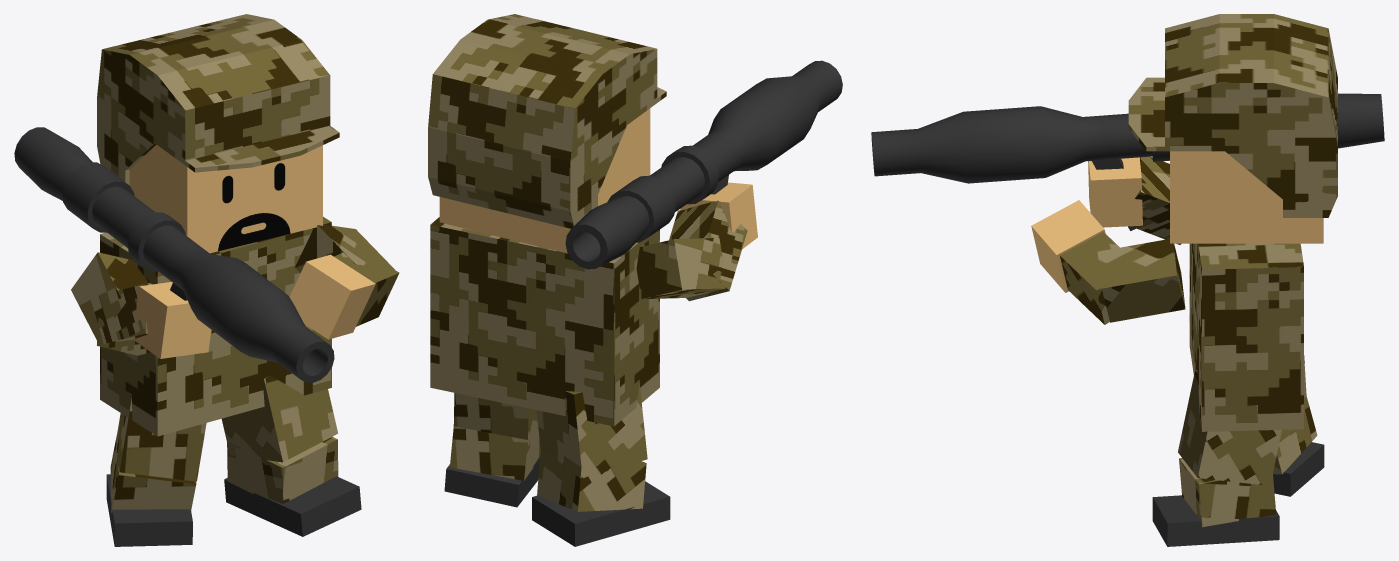
File: Soldier_Po.FBX
The picture shows the model from 3 angles, left to right: view 1: azimuth 30°, elevation 25°; view 2: azimuth 150°, elevation 25°; view 3: azimuth 270°, elevation 25°; orthographic projection. The views are drawn at different scales.
Visible parts, largest first — view 1: Box019, Tube001, Box001, Box018, Box014, Box012, Box016, Box015, Box003, Box010, Box008, Box004 (+4 smaller); view 2: Box019, Box001, Tube001, Box018, Box003, Box008, Box002, Box004, Box016, Box009, Box014, Box015 (+1 smaller); view 3: Box019, Box001, Tube001, Box018, Box013, Box014, Box015, Box016, Box010, Box012, Box011, Box009 (+2 smaller).
Part boxes in pixels (<box>): Box019: <box>97,14,339,185</box>; Tube001: <box>14,127,334,382</box>; Box001: <box>100,216,331,436</box>; Box018: <box>129,144,322,253</box>; Box014: <box>221,375,337,462</box>; Box012: <box>289,254,375,339</box>; Box016: <box>227,436,338,503</box>; Box015: <box>224,476,361,536</box>; Box003: <box>116,398,206,481</box>; Box010: <box>133,282,211,358</box>; Box008: <box>71,252,148,339</box>; Box004: <box>106,474,192,546</box>; Box019: <box>428,14,666,228</box>; Box001: <box>430,217,659,426</box>; Tube001: <box>565,60,842,269</box>; Box018: <box>439,108,650,253</box>; Box003: <box>536,383,647,477</box>; Box008: <box>636,238,726,299</box>; Box002: <box>537,450,646,511</box>; Box004: <box>532,481,670,546</box>; Box016: <box>450,425,540,480</box>; Box009: <box>669,200,747,301</box>; Box014: <box>453,393,537,446</box>; Box015: <box>444,455,540,507</box>; Box019: <box>1128,14,1337,217</box>; Box001: <box>1189,243,1303,431</box>; Tube001: <box>871,93,1384,230</box>; Box018: <box>1170,151,1323,243</box>; Box013: <box>1097,239,1185,322</box>; Box014: <box>1178,369,1281,485</box>; Box015: <box>1152,495,1279,546</box>; Box016: <box>1179,458,1276,527</box>; Box010: <box>1088,157,1142,227</box>; Box012: <box>1031,200,1105,292</box>; Box011: <box>1059,232,1120,324</box>; Box009: <box>1131,156,1181,244</box>.
Size of the model in its own units: 115 by 197 by 201.
Materials: 4 (4 with a texture image).
